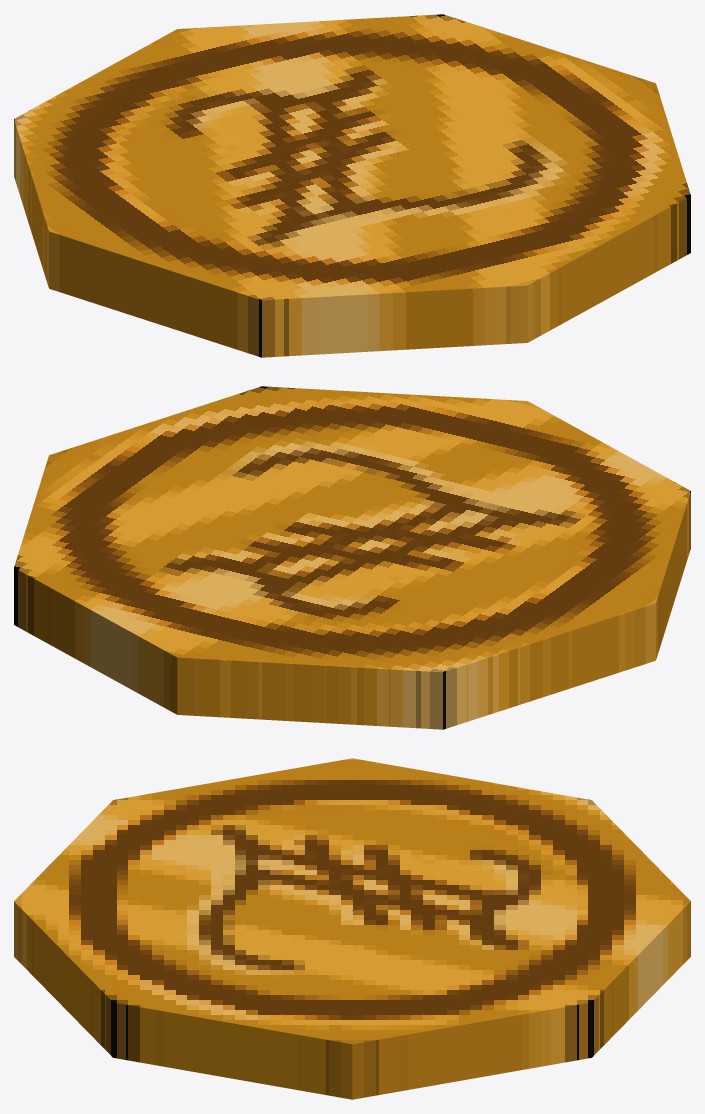
Rendered from lei.glb.
3 renders of one model, top to bottom at view 1: azimuth 30°, elevation 25°; view 2: azimuth 150°, elevation 25°; view 3: azimuth 270°, elevation 25°, orthographic. The views are drawn at different scales.
Visible parts, largest first — view 1: Lei; view 2: Lei; view 3: Lei.
Part boxes in pixels (<box>): Lei: <box>14,14,690,357</box>; Lei: <box>14,386,690,729</box>; Lei: <box>14,758,690,1099</box>.
Size of the model in its own units: 1.59 by 0.1437 by 1.59.
1 material, 1 textured.
